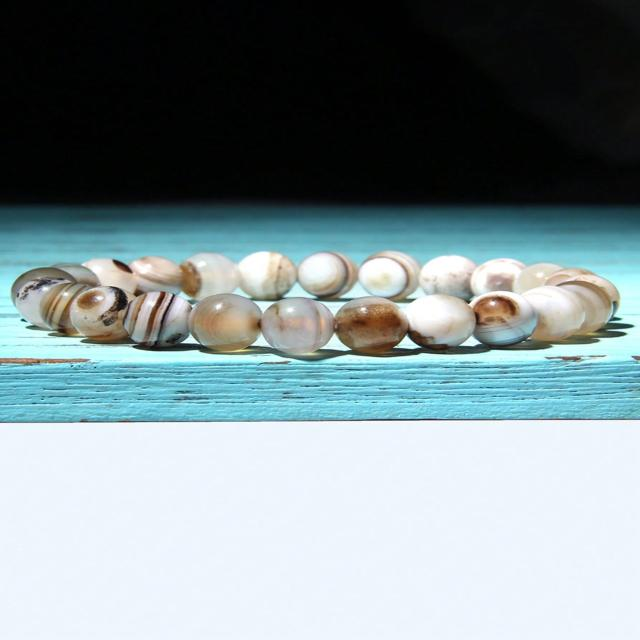bracelet: (3, 201, 640, 468)
